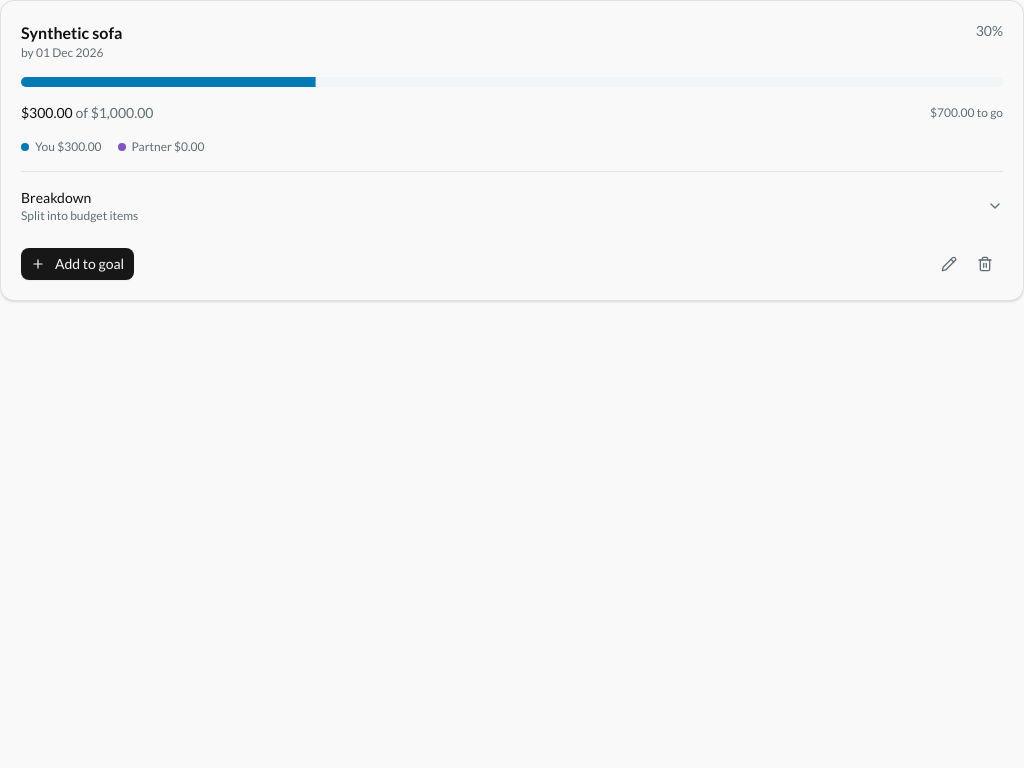
household goal editing › saves edited values with the goal id and refreshes the card
Click the button named "Edit goal Synthetic sofa": [949, 264] box [931,248,967,280]
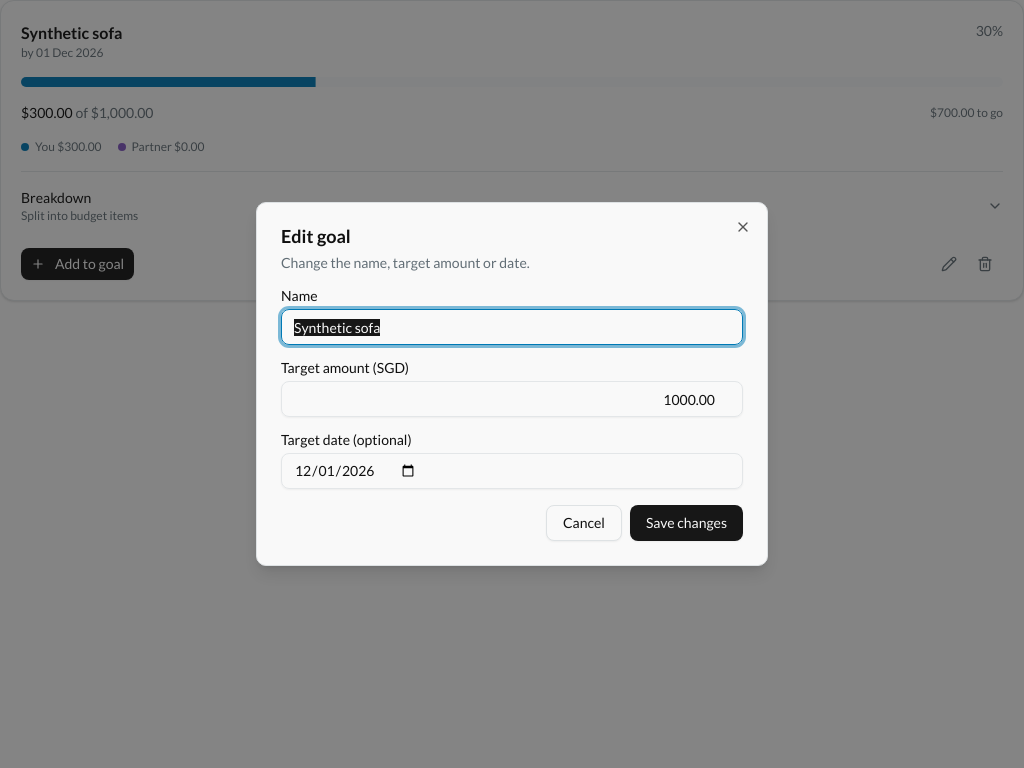
Replace the text in the field labelled "Name" with "  Synthetic bed ": [512, 327] box [281,309,743,345]
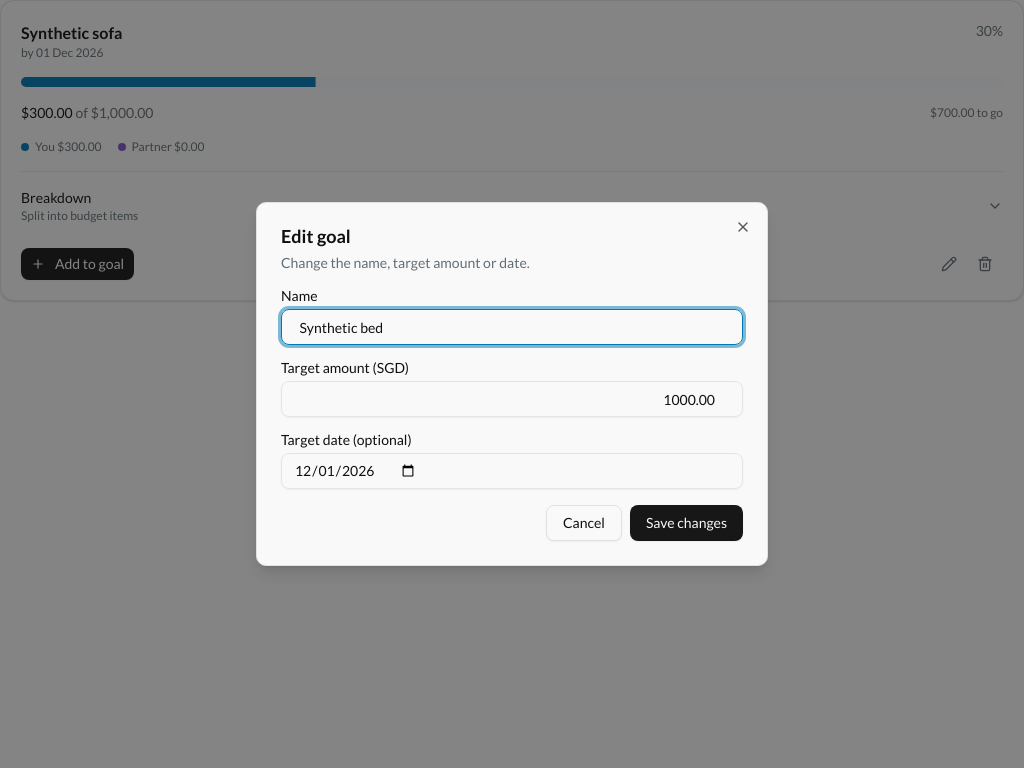
Replace the text in the number field labelled "Target amount (SGD)" with "500": [512, 399] box [281,381,743,417]
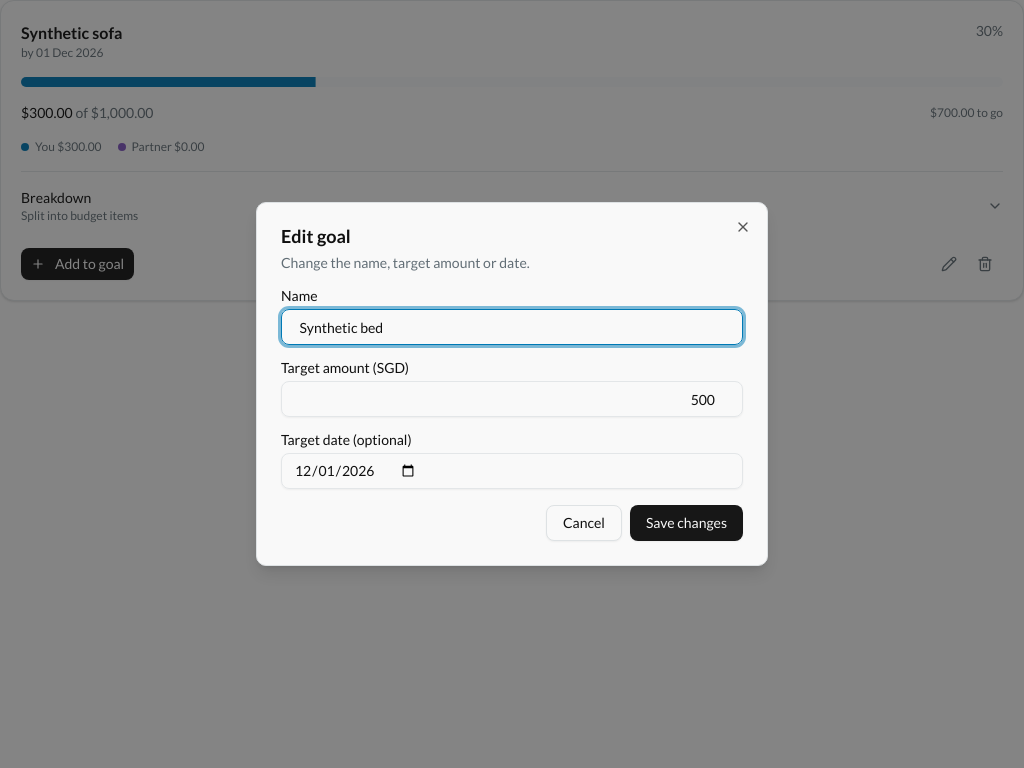
Clear the date field labelled "Target date (optional)": [512, 471] box [281,453,743,489]
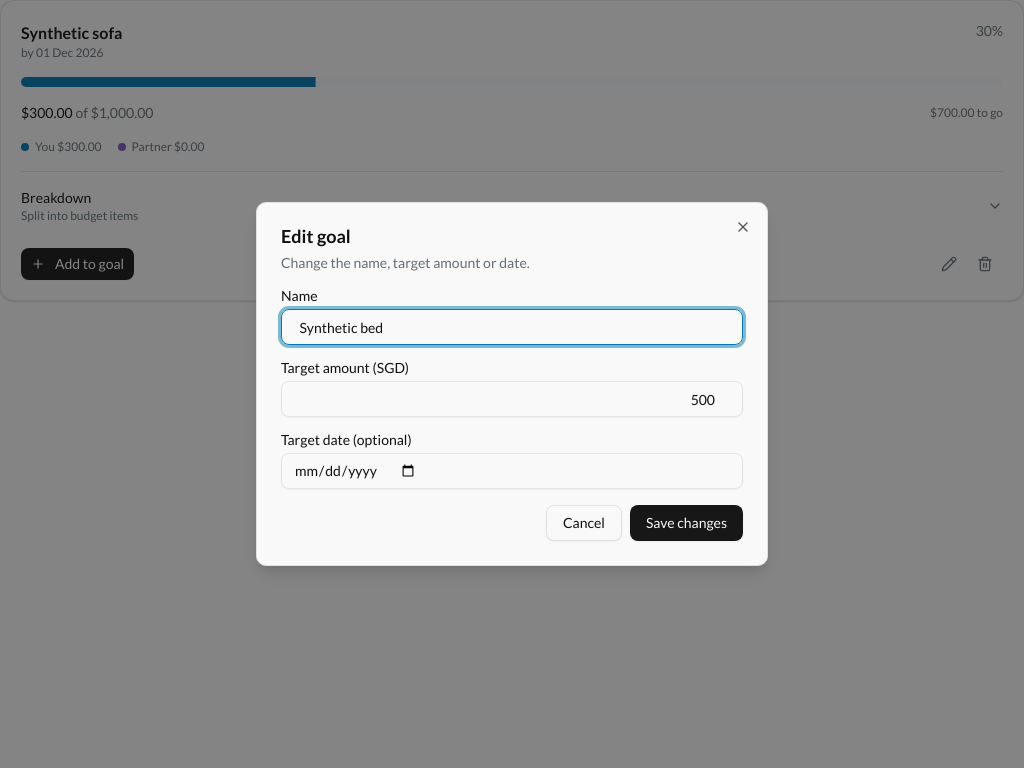
Click the button "Save changes": [686, 523] box [630,505,743,541]
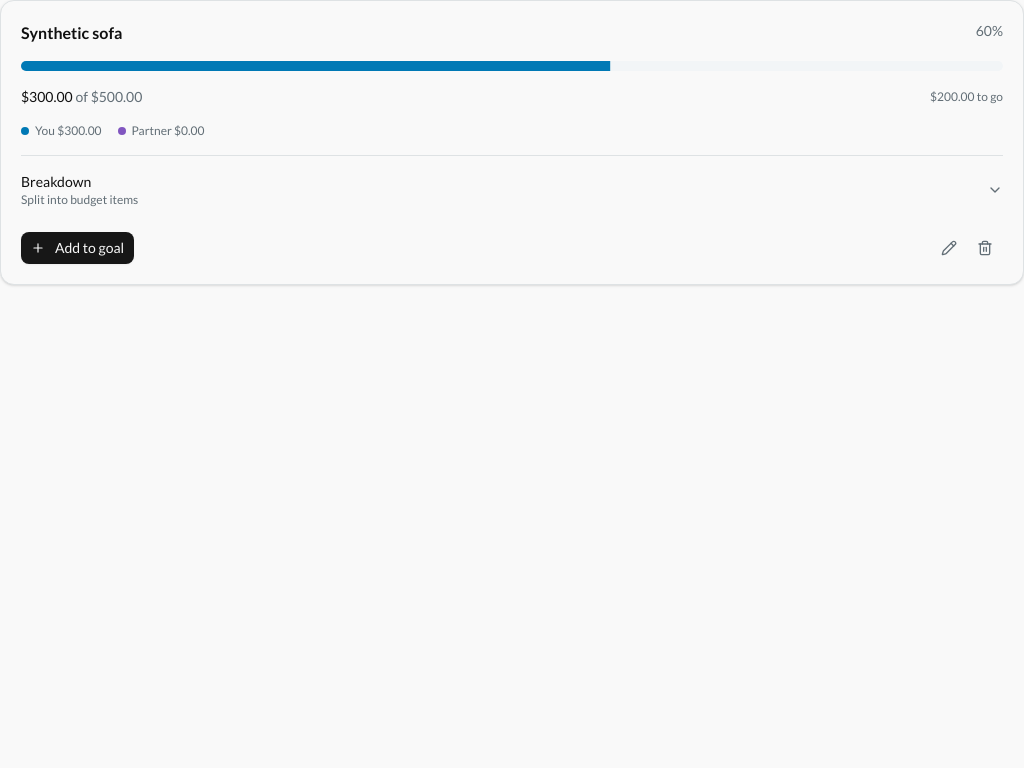
Expected: the text "of $500.00" is shown, [75,88,142,105]
Expected: the text "$200.00 to go" is shown, [930,89,1003,105]
Expected: the text "60%" is shown, [976,21,1003,41]
